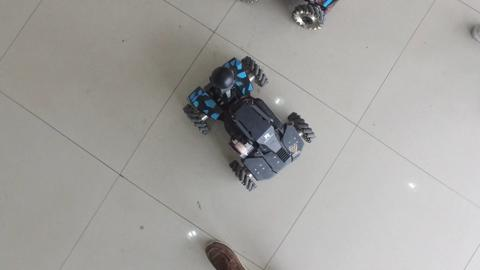chariot: (178, 52, 317, 191)
